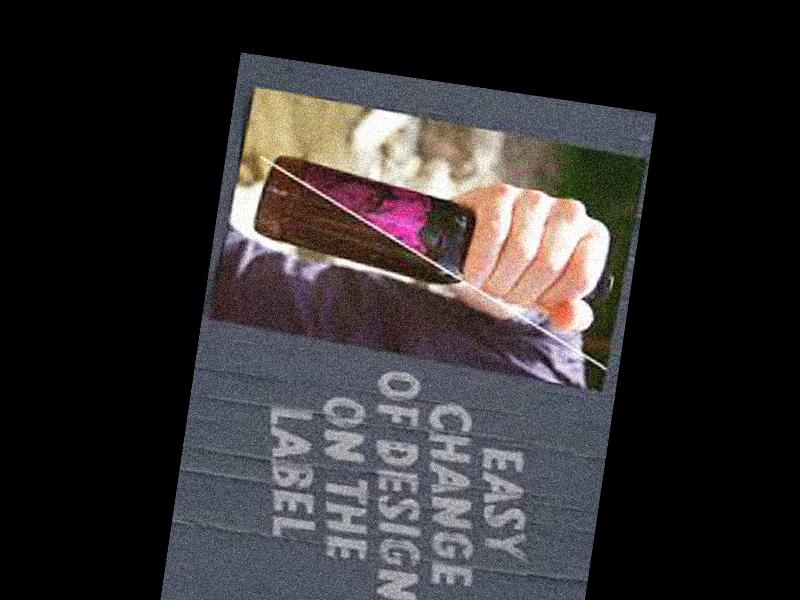Beer: (249, 157, 621, 310)
